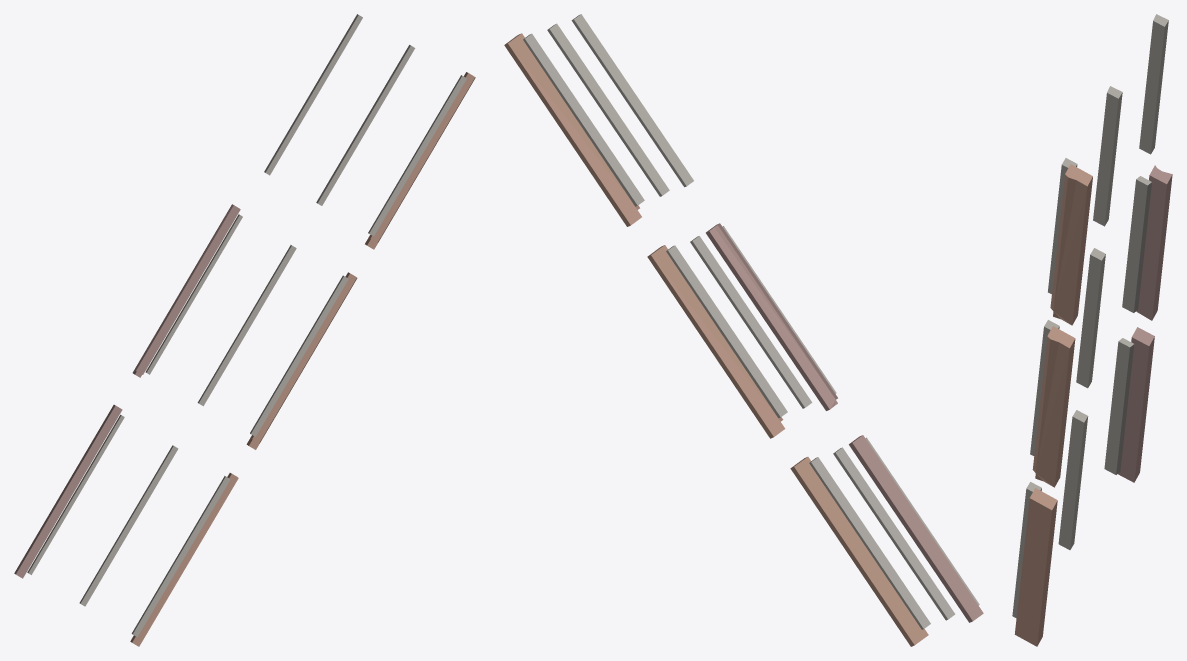
3 renders of one model, left to right at view 1: azimuth 30°, elevation 25°; view 2: azimuth 150°, elevation 25°; view 3: azimuth 270°, elevation 25°, orthographic. The views are drawn at different scales.
Parts seen in each view (by area): view 1: mesh; view 2: mesh; view 3: mesh.
Part boxes in pixels (x1,y1,x2,y2): mesh: (14,14,475,646); mesh: (504,14,983,646); mesh: (1012,14,1172,646).
Bounding box in the file's own units: 6.65 × 7.67 × 1.34.
